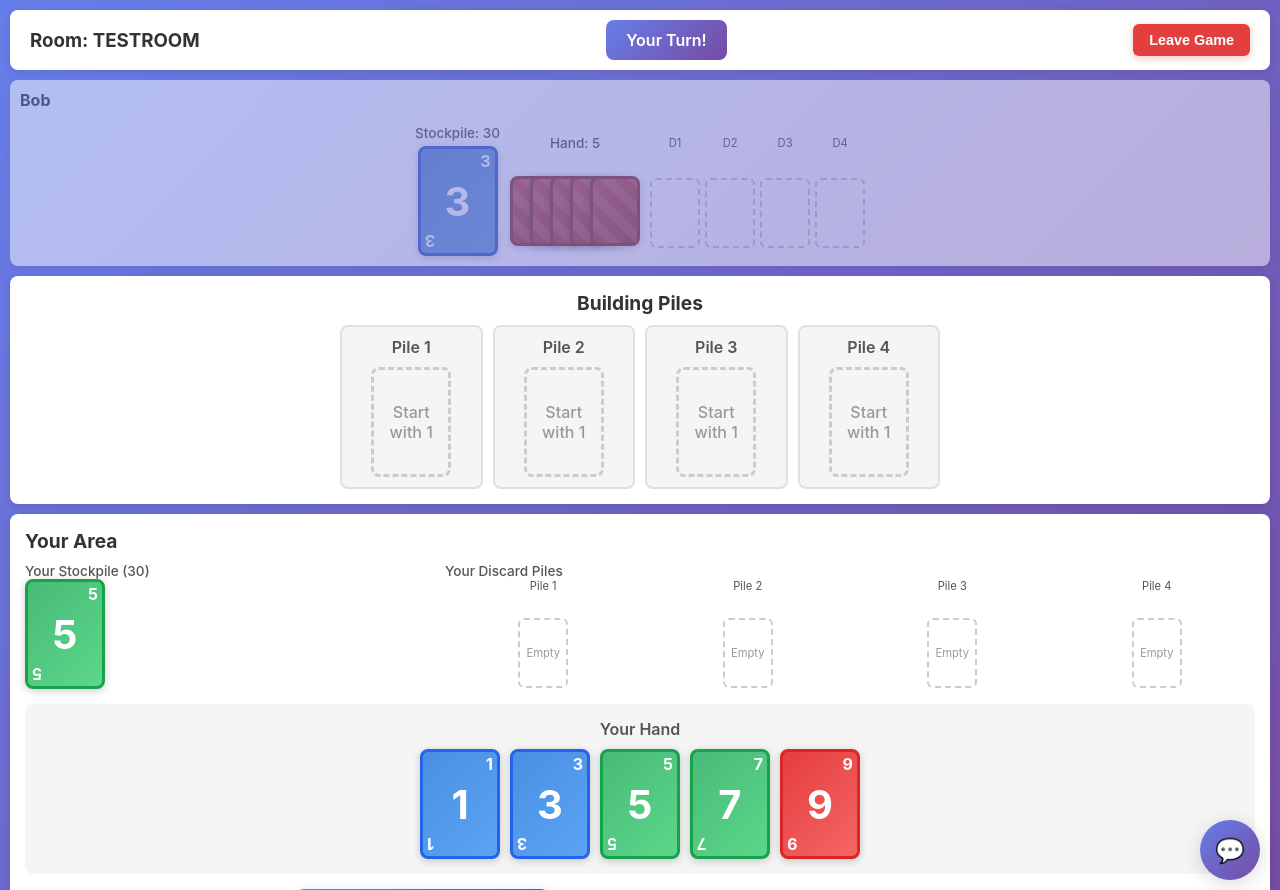
Scenario: GameBoard › active game › shows leave confirmation dialog on leave click
This screenshot has width=1280, height=890.
Click the button "Leave Game" at {"x": 1192, "y": 40}, box x1=1133 y1=24 x2=1250 y2=56
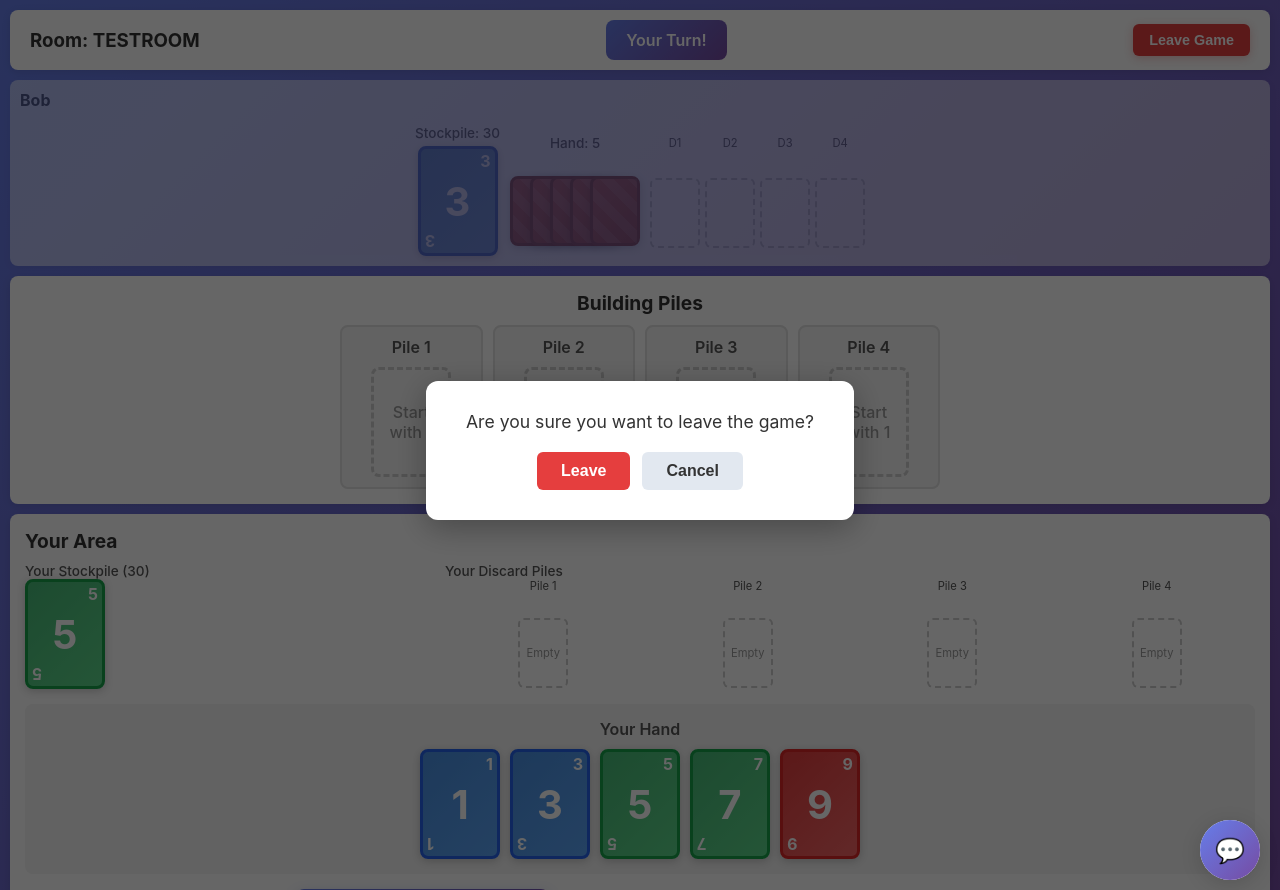
Expected: the text "Are you sure you want to leave the game?" is shown, x1=466 y1=410 x2=814 y2=432
